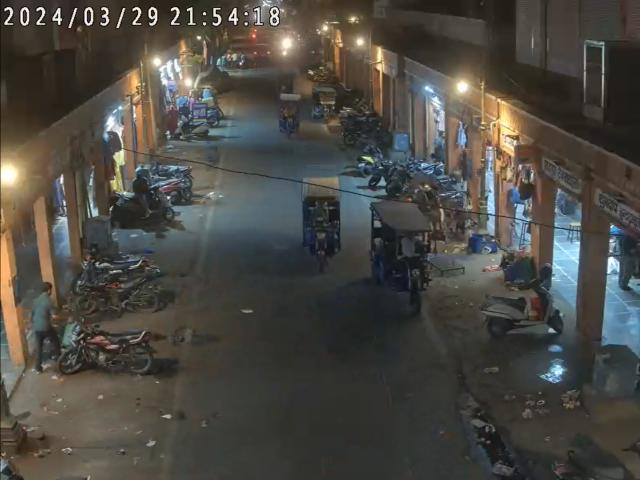auto: (366, 201, 436, 312), (300, 174, 344, 268)
motorbike: (57, 323, 154, 380), (81, 266, 167, 316)
person: (27, 280, 62, 369)
scooty: (481, 270, 567, 336), (118, 183, 176, 222)
